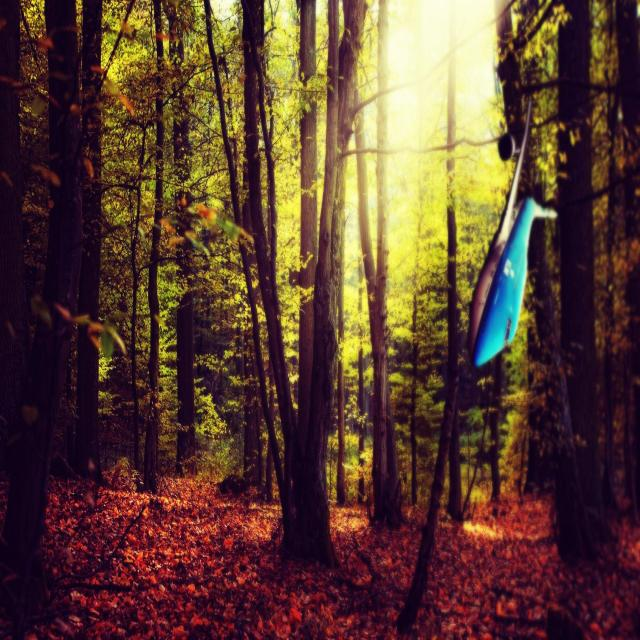airplane: (466, 97, 558, 368)
